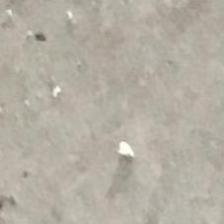Non_Crack: (33, 23, 224, 224)
